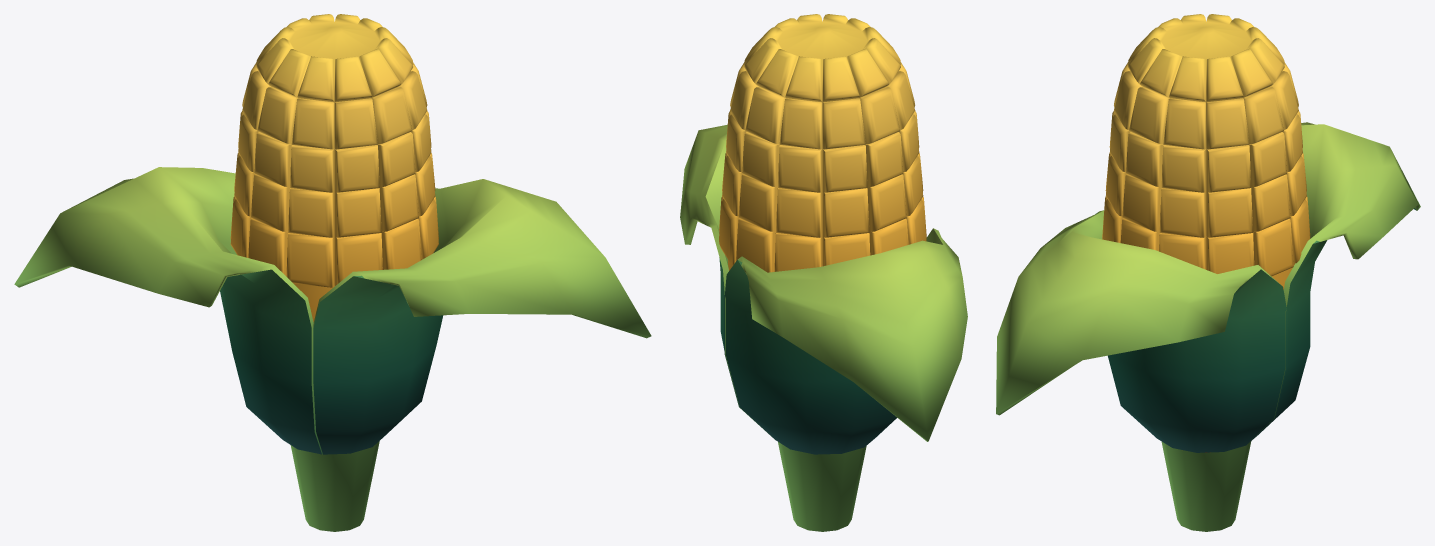
Rendered from Corn.fbx.
3 views of the same model, side by side, from view 1: azimuth 30°, elevation 25°; view 2: azimuth 150°, elevation 25°; view 3: azimuth 270°, elevation 25° (orthographic).
Visible parts, largest first — view 1: Corn.001; view 2: Corn.001; view 3: Corn.001.
Part boxes in pixels (x1,y1,x2,y2): Corn.001: (14,14,651,531); Corn.001: (680,14,967,531); Corn.001: (996,14,1420,531).
Bounding box in the file's own units: 0.4528 × 0.5043 × 0.3919.
